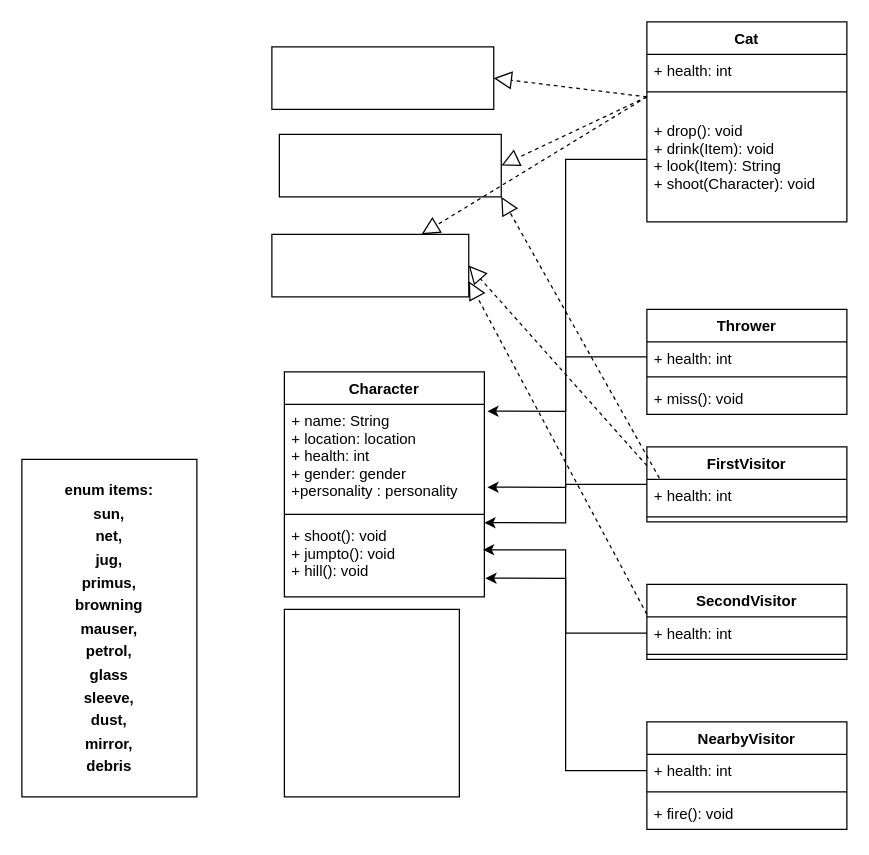
Some shapes in this 869 by 855 pixel diagram are drawn without their labels. Here are the shapes that lost their labels. From the top down, the centre of each, then its label:
At pixel 382 77: "«interface» drop +drop(Item,character): void".
At pixel 389 165: "«interface» toCatch +toCatch(Item,location): void".
At pixel 370 265: "«interface» target +target(item,character): void".
At pixel 371 702: "enum locations: floor, pocket, mantel, cornise, chandelier".
